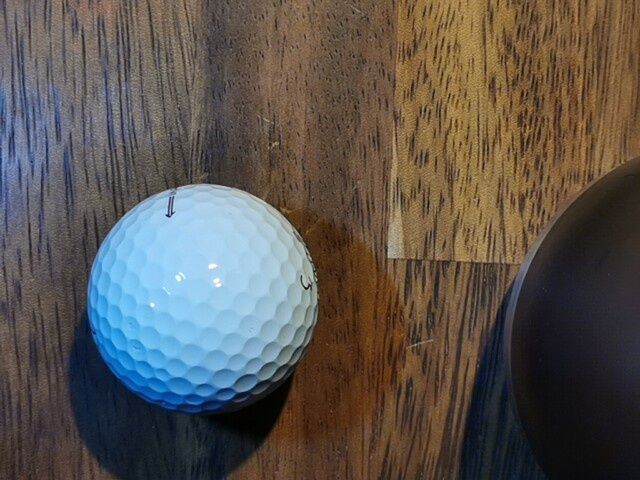Ball: (86, 182, 318, 415)
